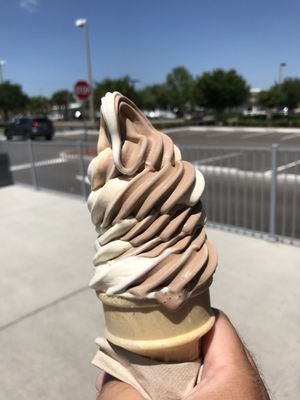sandwich: (5, 116, 55, 141)
